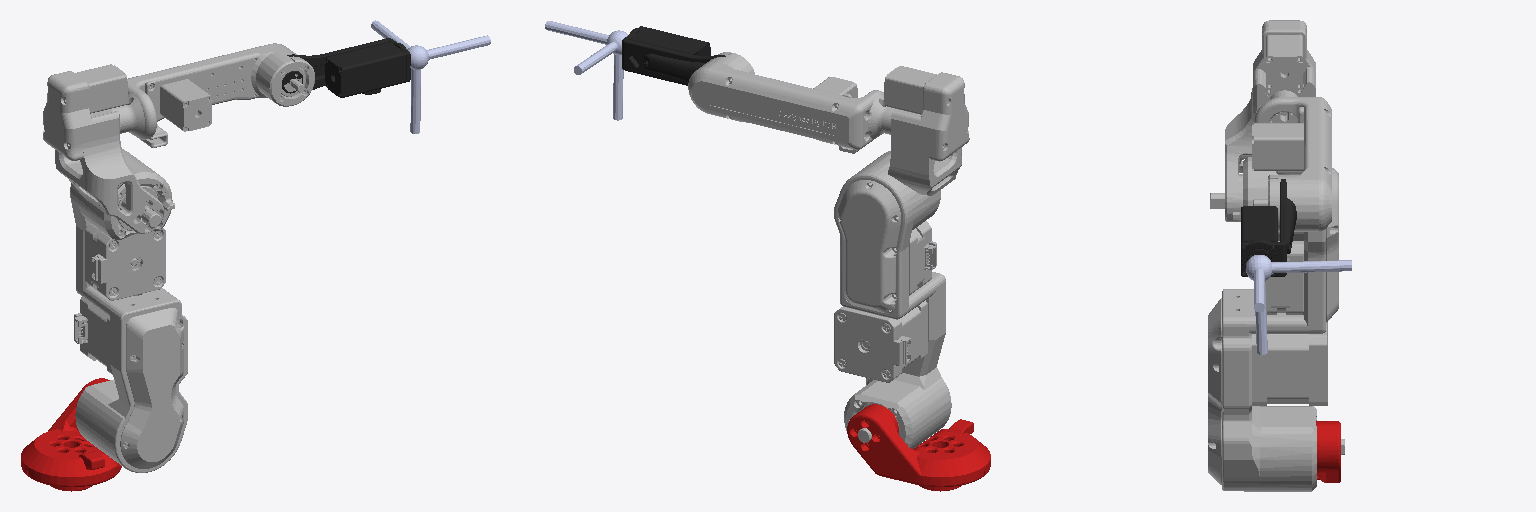
robot.urdf — selfModel:
<?xml version="1.0" encoding="utf-8"?>
<!-- This URDF was automatically created by SolidWorks to URDF Exporter! Originally created by Stephen Brawner (brawner@gmail.com) 
     Commit Version: 1.6.0-4-g7f85cfe  Build Version: 1.6.7995.38578
     For more information, please see http://wiki.ros.org/sw_urdf_exporter -->
<robot
  name="selfModel">
  <link
    name="base_link">
    <inertial>
      <origin
        xyz="0.064355 5.0607E-05 0.0033088"
        rpy="0 0 0" />
      <mass
        value="1.6946" />
      <inertia
        ixx="0.0064783"
        ixy="-4.1906E-07"
        ixz="-1.5099E-05"
        iyy="0.0091096"
        iyz="-4.5666E-07"
        izz="0.015037" />
    </inertial>
    <visual>
      <origin
        xyz="0 0 0"
        rpy="0 0 0" />
      <geometry>
        <mesh
          filename="package://selfModel/meshes/base_link.STL" />
      </geometry>
      <material
        name="">
        <color
          rgba="0.75294 0.75294 0.75294 1" />
      </material>
    </visual>
    <collision>
      <origin
        xyz="0 0 0"
        rpy="0 0 0" />
      <geometry>
        <mesh
          filename="package://selfModel/meshes/base_link.STL" />
      </geometry>
    </collision>
  </link>
  <link
    name="link1">
    <inertial>
      <origin
        xyz="0.0056565 0.0056156 0.018537"
        rpy="0 0 0" />
      <mass
        value="0.052137" />
      <inertia
        ixx="1.9368E-05"
        ixy="-7.1474E-06"
        ixz="-5.1109E-06"
        iyy="2.2604E-05"
        iyz="-3.282E-06"
        izz="3.1983E-05" />
    </inertial>
    <visual>
      <origin
        xyz="0 0 0"
        rpy="0 0 0" />
      <geometry>
        <mesh
          filename="package://selfModel/meshes/link1.STL" />
      </geometry>
      <material
        name="">
        <color
          rgba="0.81176 0.1451 0.1451 1" />
      </material>
    </visual>
    <collision>
      <origin
        xyz="0 0 0"
        rpy="0 0 0" />
      <geometry>
        <mesh
          filename="package://selfModel/meshes/link1.STL" />
      </geometry>
    </collision>
  </link>
  <joint
    name="joint1"
    type="continuous">
    <origin
      xyz="0 0 0.074"
      rpy="0 0 0" />
    <parent
      link="base_link" />
    <child
      link="link1" />
    <axis
      xyz="0 0 -1" />
    <limit
      effort="20"
      velocity="0.377" />
    <dynamics
      damping="0.1"
      friction="0.1" />
  </joint>
  <link
    name="link2">
    <inertial>
      <origin
        xyz="0.071107 -0.0020617 -0.015723"
        rpy="0 0 0" />
      <mass
        value="0.31887" />
      <inertia
        ixx="0.00010406"
        ixy="-1.2153E-06"
        ixz="3.8331E-05"
        iyy="0.00053452"
        iyz="1.4253E-06"
        izz="0.00053492" />
    </inertial>
    <visual>
      <origin
        xyz="0 0 0"
        rpy="0 0 0" />
      <geometry>
        <mesh
          filename="package://selfModel/meshes/link2.STL" />
      </geometry>
      <material
        name="">
        <color
          rgba="0.75294 0.75294 0.75294 1" />
      </material>
    </visual>
    <collision>
      <origin
        xyz="0 0 0"
        rpy="0 0 0" />
      <geometry>
        <mesh
          filename="package://selfModel/meshes/link2.STL" />
      </geometry>
    </collision>
  </link>
  <joint
    name="joint2"
    type="revolute">
    <origin
      xyz="0.035 -0.02 0.035"
      rpy="1.5708 -1.5708 0" />
    <parent
      link="link1" />
    <child
      link="link2" />
    <axis
      xyz="0 0 1" />
    <limit
      lower="-1.274"
      upper="1.274"
      effort="20"
      velocity="0.377" />
    <dynamics
      damping="0.1"
      friction="0.1" />
  </joint>
  <link
    name="link3">
    <inertial>
      <origin
        xyz="0.044755 0.022755 -0.015346"
        rpy="0 0 0" />
      <mass
        value="0.065199" />
      <inertia
        ixx="1.4837E-05"
        ixy="-3.4323E-06"
        ixz="5.2064E-06"
        iyy="2.5913E-05"
        iyz="2.0349E-06"
        izz="2.0069E-05" />
    </inertial>
    <visual>
      <origin
        xyz="0 0 0"
        rpy="0 0 0" />
      <geometry>
        <mesh
          filename="package://selfModel/meshes/link3.STL" />
      </geometry>
      <material
        name="">
        <color
          rgba="0.75294 0.75294 0.75294 1" />
      </material>
    </visual>
    <collision>
      <origin
        xyz="0 0 0"
        rpy="0 0 0" />
      <geometry>
        <mesh
          filename="package://selfModel/meshes/link3.STL" />
      </geometry>
    </collision>
  </link>
  <joint
    name="joint3"
    type="revolute">
    <origin
      xyz="0.146 0 0.00015"
      rpy="0 0 0" />
    <parent
      link="link2" />
    <child
      link="link3" />
    <axis
      xyz="0 0 -1" />
    <limit
      lower="-1.047"
      upper="1.047"
      effort="12"
      velocity="0.628" />
    <dynamics
      damping="0.1"
      friction="0.1" />
  </joint>
  <link
    name="link4">
    <inertial>
      <origin
        xyz="-5.0854E-05 -0.0082224 0.073171"
        rpy="0 0 0" />
      <mass
        value="0.064741" />
      <inertia
        ixx="4.1762E-05"
        ixy="6.8663E-08"
        ixz="2.8681E-07"
        iyy="4.3462E-05"
        iyz="-2.1488E-06"
        izz="6.3712E-06" />
    </inertial>
    <visual>
      <origin
        xyz="0 0 0"
        rpy="0 0 0" />
      <geometry>
        <mesh
          filename="package://selfModel/meshes/link4.STL" />
      </geometry>
      <material
        name="">
        <color
          rgba="0.75294 0.75294 0.75294 1" />
      </material>
    </visual>
    <collision>
      <origin
        xyz="0 0 0"
        rpy="0 0 0" />
      <geometry>
        <mesh
          filename="package://selfModel/meshes/link4.STL" />
      </geometry>
    </collision>
  </link>
  <joint
    name="joint4"
    type="continuous">
    <origin
      xyz="0.052 0.012 -0.02015"
      rpy="1.5708 0 0" />
    <parent
      link="link3" />
    <child
      link="link4" />
    <axis
      xyz="0 0 -1" />
    <limit
      effort="12"
      velocity="0.628" />
    <dynamics
      damping="0.1"
      friction="0.1" />
  </joint>
  <link
    name="link5">
    <inertial>
      <origin
        xyz="0.040089 0.00018784 -0.0023494"
        rpy="0 0 0" />
      <mass
        value="0.028392" />
      <inertia
        ixx="1.6899E-06"
        ixy="1.7979E-09"
        ixz="1.4814E-07"
        iyy="6.917E-06"
        iyz="-2.4077E-10"
        izz="7.2342E-06" />
    </inertial>
    <visual>
      <origin
        xyz="0 0 0"
        rpy="0 0 0" />
      <geometry>
        <mesh
          filename="package://selfModel/meshes/link5.STL" />
      </geometry>
      <material
        name="">
        <color
          rgba="0.2 0.2 0.2 1" />
      </material>
    </visual>
    <collision>
      <origin
        xyz="0 0 0"
        rpy="0 0 0" />
      <geometry>
        <mesh
          filename="package://selfModel/meshes/link5.STL" />
      </geometry>
    </collision>
  </link>
  <joint
    name="joint5"
    type="revolute">
    <origin
      xyz="0 0.0068 0.127"
      rpy="1.5708 -1.5708 0" />
    <parent
      link="link4" />
    <child
      link="link5" />
    <axis
      xyz="0 0 -1" />
    <limit
      lower="-2.094"
      upper="2.094"
      effort="12"
      velocity="0.628" />
    <dynamics
      damping="0.1"
      friction="0.1" />
  </joint>
  <link
    name="link6">
    <inertial>
      <origin
        xyz="0.0062045 0.0066121 0.016503"
        rpy="0 0 0" />
      <mass
        value="0.0053983" />
      <inertia
        ixx="1.9419E-06"
        ixy="2.2146E-07"
        ixz="2.1475E-07"
        iyy="1.9701E-06"
        iyz="2.2885E-07"
        izz="1.956E-06" />
    </inertial>
    <visual>
      <origin
        xyz="0 0 0"
        rpy="0 0 0" />
      <geometry>
        <mesh
          filename="package://selfModel/meshes/link6.STL" />
      </geometry>
      <material
        name="">
        <color
          rgba="0.79608 0.82353 0.93725 1" />
      </material>
    </visual>
    <collision>
      <origin
        xyz="0 0 0"
        rpy="0 0 0" />
      <geometry>
        <mesh
          filename="package://selfModel/meshes/link6.STL" />
      </geometry>
    </collision>
  </link>
  <joint
    name="joint6"
    type="continuous">
    <origin
      xyz="0.072 0 -0.0068"
      rpy="1.5708 0 1.5708" />
    <parent
      link="link5" />
    <child
      link="link6" />
    <axis
      xyz="0 0 -1" />
    <limit
      effort="20"
      velocity="0.377" />
    <dynamics
      damping="0.1"
      friction="0.1" />
  </joint>
</robot>

--- Render facts (derived) ---
3 views of the same robot in one strip: view 1: azimuth 30°, elevation 25°; view 2: azimuth 150°, elevation 25°; view 3: azimuth 270°, elevation 25° (orthographic).
Model selfModel with 7 links and 6 joints (3 revolute, 3 continuous), rooted at base_link, posed all joints at 0.
Visible links, largest first — view 1: link2, link3, link4, link1, link5, link6; view 2: link2, link4, link3, link1, link5, link6; view 3: link2, link4, link3, link5, link6, link1.
Boxes of the visible links, x1,y1,x2,y2 form: link2: [70, 149, 187, 472]; link3: [43, 64, 163, 233]; link4: [110, 43, 314, 147]; link1: [21, 378, 121, 491]; link5: [282, 38, 410, 97]; link6: [371, 20, 490, 133]; link2: [834, 151, 951, 448]; link4: [688, 52, 901, 153]; link3: [884, 66, 969, 195]; link1: [847, 404, 990, 491]; link5: [622, 26, 725, 85]; link6: [545, 21, 627, 120]; link2: [1208, 157, 1344, 491]; link4: [1252, 90, 1331, 231]; link3: [1225, 20, 1315, 221]; link5: [1241, 179, 1296, 276]; link6: [1246, 255, 1351, 354]; link1: [1316, 421, 1340, 482].
Bounding box of the posed robot: 0.3126 × 0.078 × 0.2682 m (x, y, z).
6 mesh visuals loaded from 7 distinct referenced files (6 binary STL); not drawn: 1 (reference not matched to a file when rendering).
